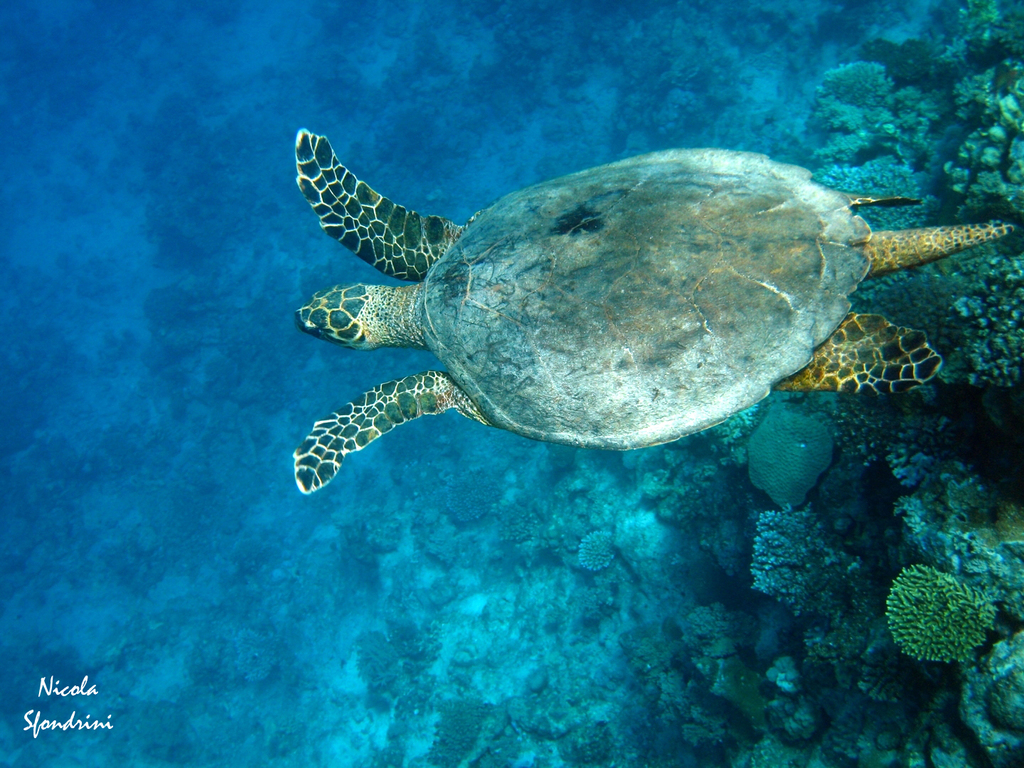Sea turtles: (292, 127, 1014, 500)
